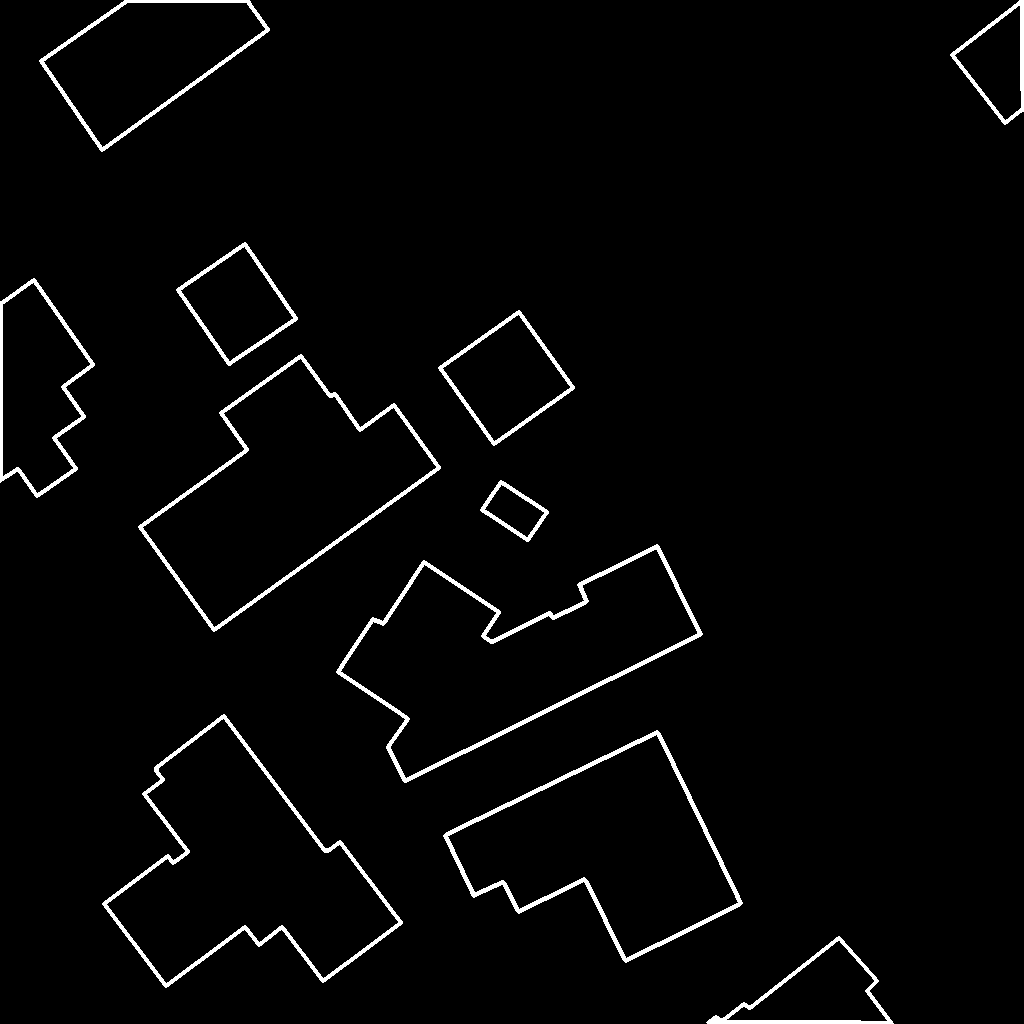building: (338, 546, 702, 782), (140, 356, 440, 631), (104, 716, 402, 987), (445, 732, 742, 962), (41, 0, 269, 151), (0, 280, 94, 497), (440, 312, 574, 445), (708, 938, 893, 1024), (178, 244, 297, 365), (952, 0, 1024, 124), (482, 482, 548, 541)
